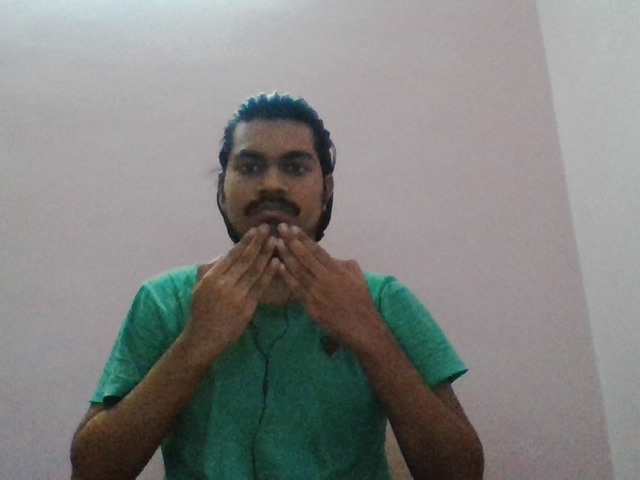ThankYou: (187, 220, 384, 348)
